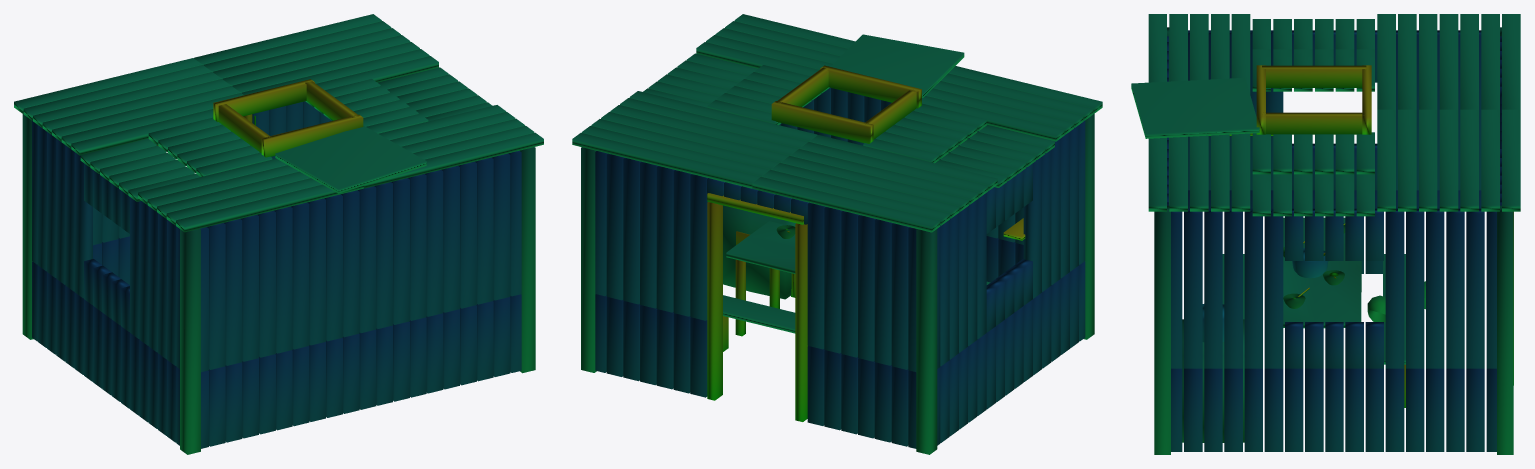
The model's file is terrace_galley.glb.
3 views of the same model, side by side, from view 1: azimuth 30°, elevation 25°; view 2: azimuth 150°, elevation 25°; view 3: azimuth 270°, elevation 25° (orthographic). The views are drawn at different scales.
Parts seen in each view (by area): view 1: terrace_galley; view 2: terrace_galley; view 3: terrace_galley.
Part boxes in pixels (<box>): terrace_galley: <box>14,14,543,454</box>; terrace_galley: <box>572,14,1102,454</box>; terrace_galley: <box>1131,14,1520,454</box>.
Size of what is drawn, in the model's own units: 3.43 by 2.27 by 2.95.
